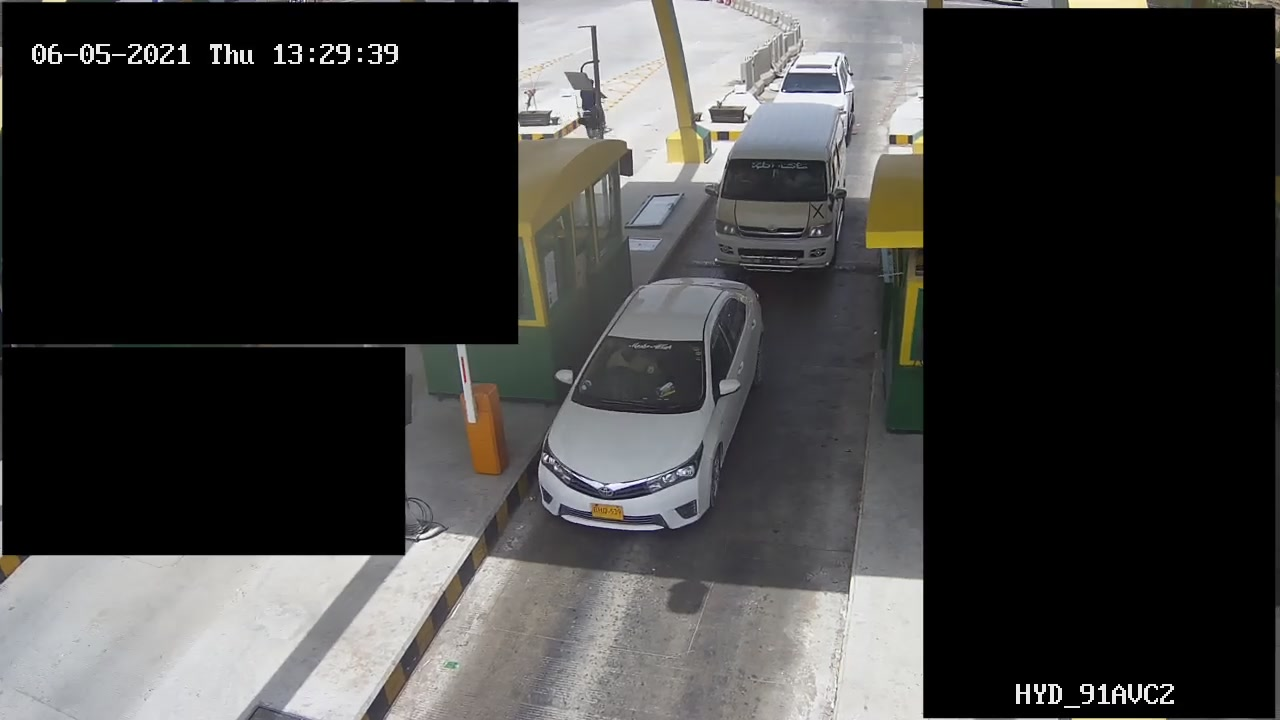F1: (526, 273, 768, 532)
F2: (706, 103, 853, 281)
